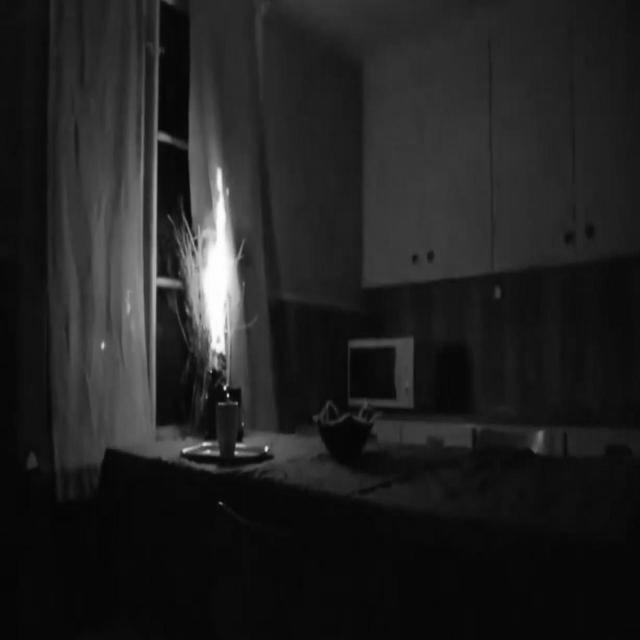smoke: (196, 158, 240, 357)
